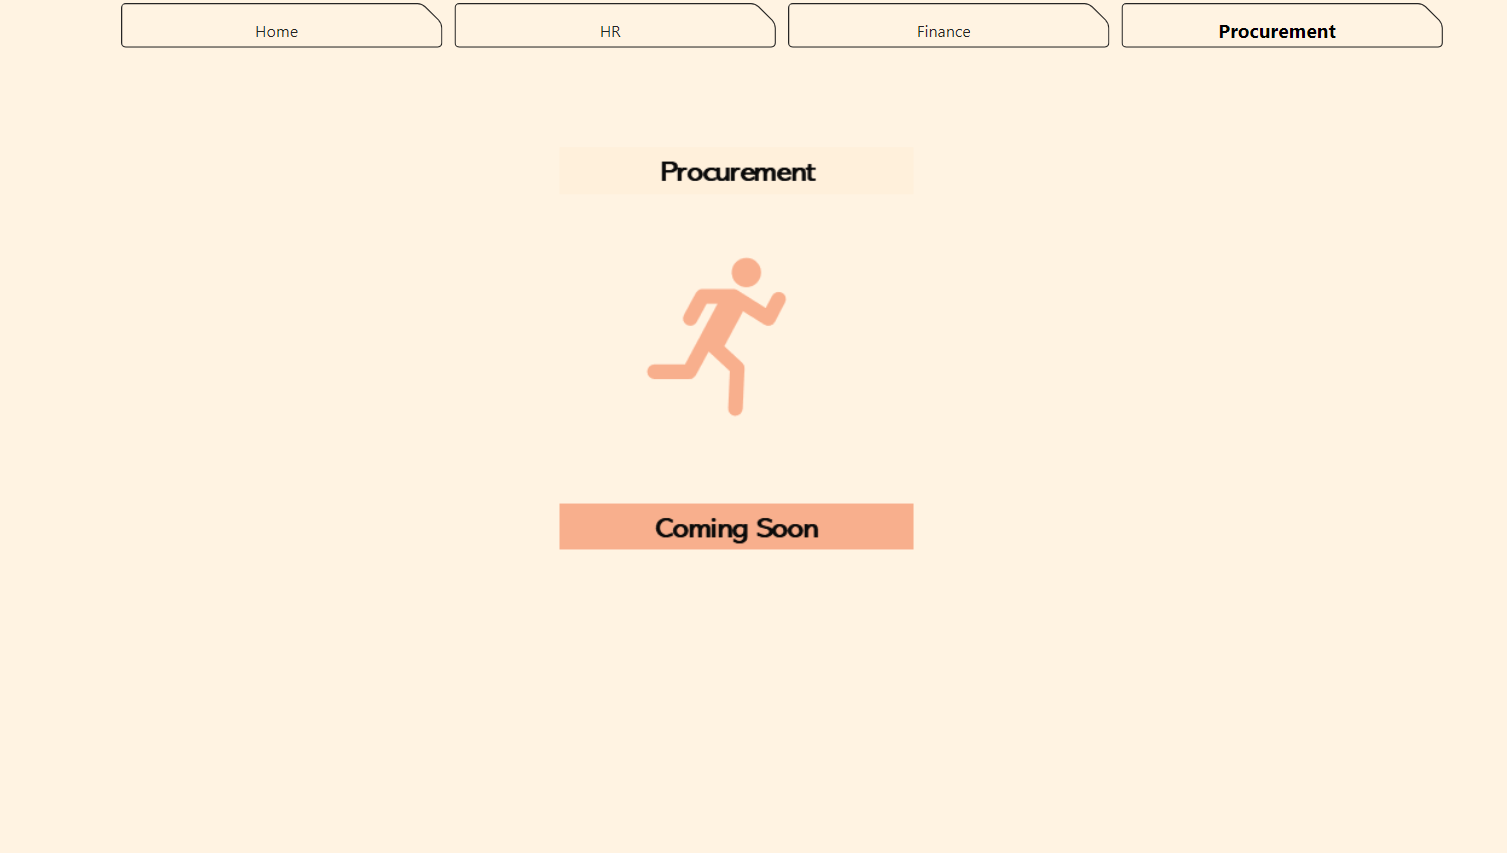

This screenshot's page, from the dashboard's own definition file:
{"tool":"powerbi","page":{"name":"Procurement","canvas":[1280,720],"ordinal":3},"visuals":[{"type":"pageNavigator","box":[120.8,9.5,1096.3,38],"z":0}]}

Visuals, with their boxes in screenshot pixels (x1, y1, x2, y2), scaled from the page's 1280x720 canvas onto the 1507x853 screenshot:
pageNavigator: 142,11,1433,56
